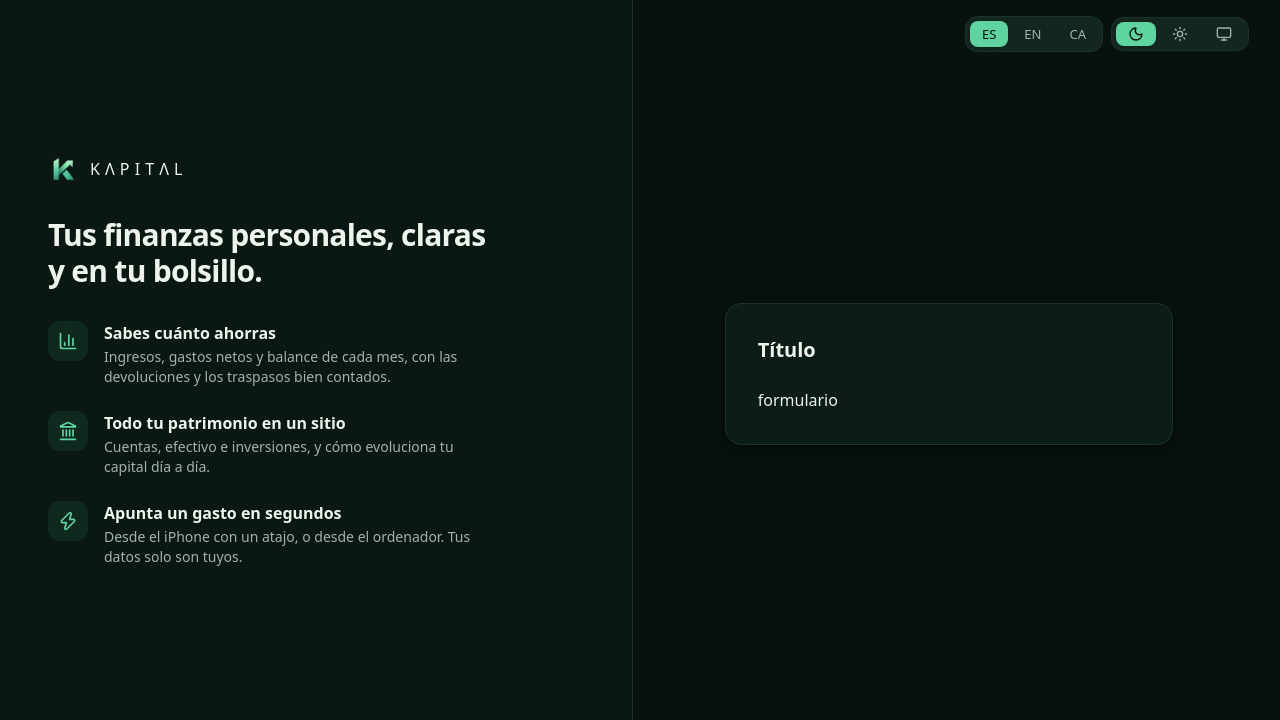
Test: AuthLayout (login y registro) › cambia el idioma desde la propia pantalla y lo recuerda
Expected: the element named "Qué es Kapital" shows "Sabes cuánto ahorras", x1=104 y1=322 x2=276 y2=344
Click the radio button named "Català".
click(1078, 34)  # box x1=1058 y1=21 x2=1098 y2=47
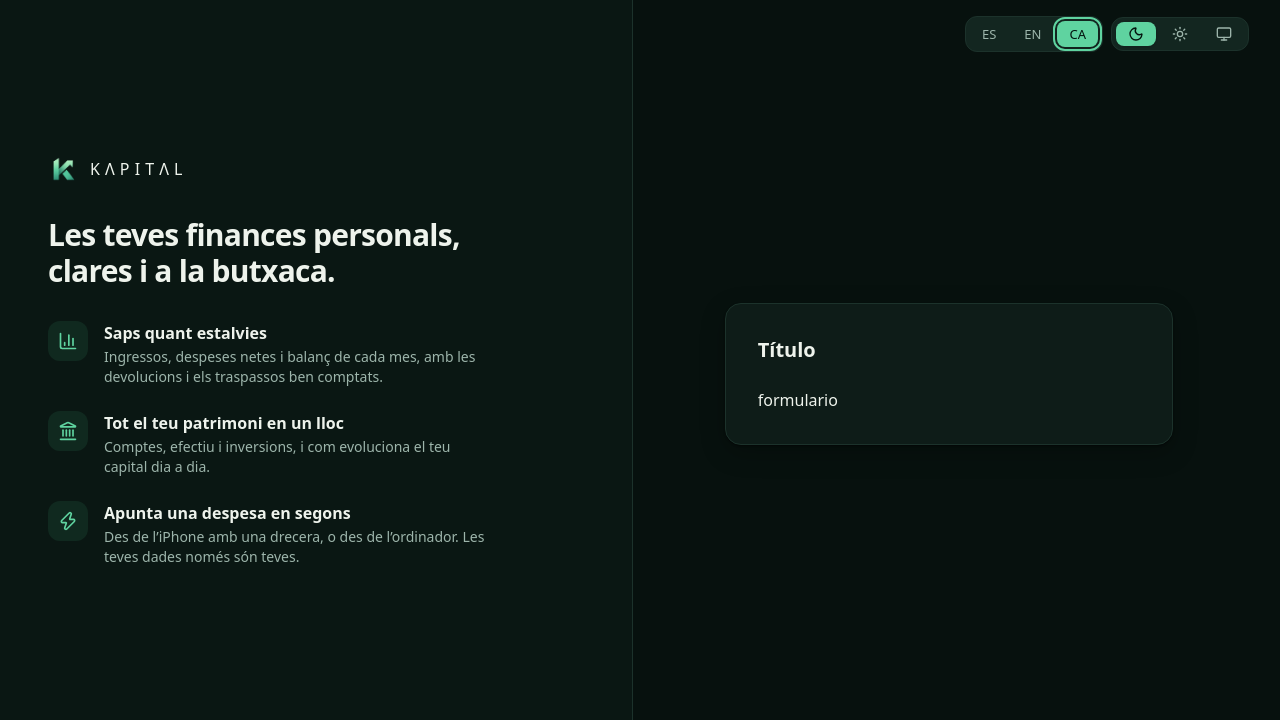
Expected: the element named "Què és Kapital" shows "Saps quant estalvies", x1=104 y1=322 x2=267 y2=344
